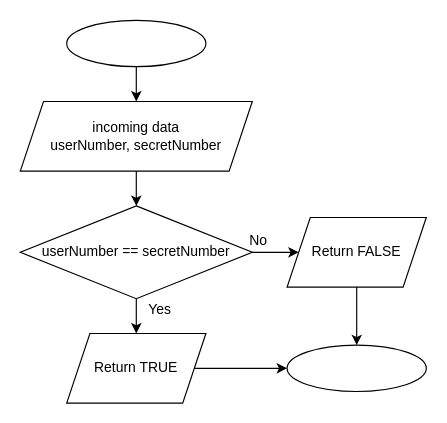
Image size: 447x423. Some labels were removed from this diagram. Here are the shapes that lost their labels. From the top down, the box of each, then its label:
(66, 19, 206, 67): START
(286, 344, 426, 392): END
